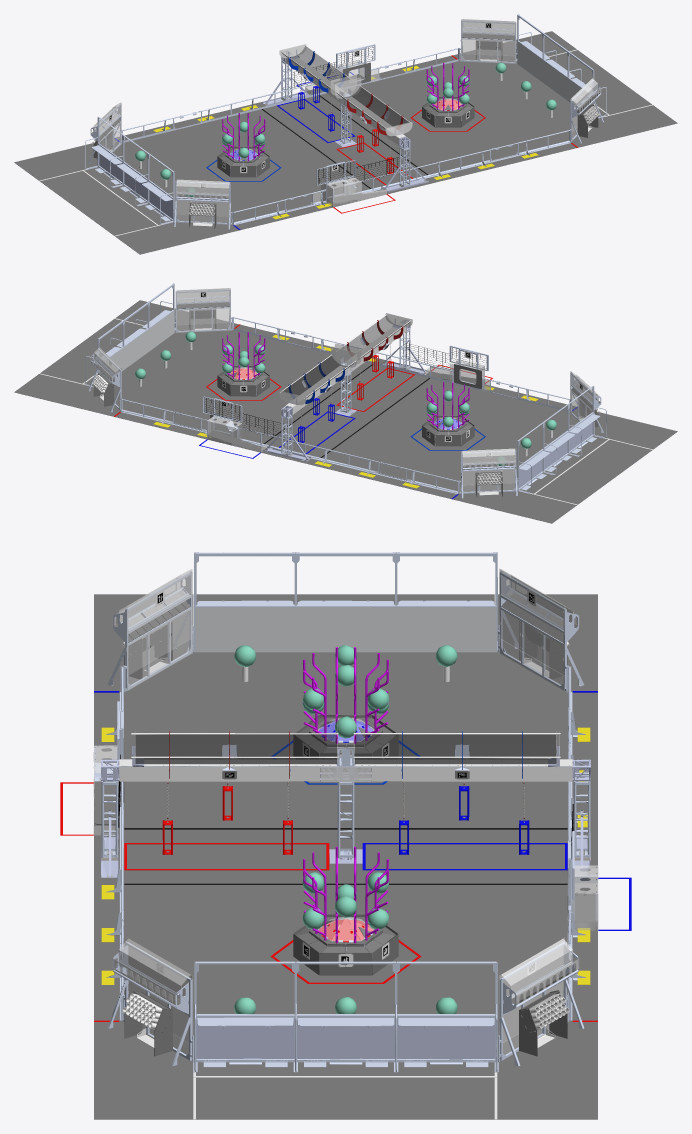
The model's file is field-optimized.glb.
3 renders of one model, top to bottom at view 1: azimuth 30°, elevation 25°; view 2: azimuth 150°, elevation 25°; view 3: azimuth 270°, elevation 25°, orthographic. The views are drawn at different scales.
Visible parts, largest first — view 1: carpet, GE-25001-08, GE-25021, GE-25014, CORAL (GE-25500), GE-25018-01, GE-25228, ALGAE (GE-25501), FE-00004-01, GE-25301, GE-25307, FE-00082 (+5 smaller); view 2: carpet, GE-25001-08, GE-25021, GE-25014, CORAL (GE-25500), GE-25018-01, GE-25228, ALGAE (GE-25501), FE-00004-01, GE-25301, FE-00083_ID2, GE-25307 (+5 smaller); view 3: carpet, GE-25001-08, GE-25021, CORAL (GE-25500), GE-25014, FE-00004-01, GE-25018-01, GE-25228, ALGAE (GE-25501), GE-25301, GE-25307, FE-00082 (+3 smaller).
Boxes of the visible parts, x1=… form: carpet: x1=14, y1=31, x2=677, y2=254; GE-25001-08: x1=85, y1=14, x2=606, y2=229; GE-25021: x1=91, y1=19, x2=601, y2=216; GE-25014: x1=91, y1=29, x2=600, y2=228; CORAL (GE-25500): x1=39, y1=22, x2=652, y2=236; GE-25018-01: x1=97, y1=29, x2=595, y2=218; GE-25228: x1=282, y1=46, x2=408, y2=128; ALGAE (GE-25501): x1=135, y1=62, x2=556, y2=196; FE-00004-01: x1=517, y1=42, x2=592, y2=108; GE-25301: x1=222, y1=63, x2=469, y2=161; GE-25307: x1=333, y1=55, x2=577, y2=213; FE-00082: x1=108, y1=22, x2=577, y2=222; carpet: x1=14, y1=300, x2=677, y2=523; GE-25001-08: x1=85, y1=283, x2=606, y2=498; GE-25021: x1=90, y1=288, x2=600, y2=485; GE-25014: x1=91, y1=298, x2=600, y2=497; CORAL (GE-25500): x1=39, y1=291, x2=652, y2=504; GE-25018-01: x1=96, y1=298, x2=594, y2=487; GE-25228: x1=283, y1=315, x2=409, y2=397; ALGAE (GE-25501): x1=135, y1=331, x2=556, y2=465; FE-00004-01: x1=99, y1=311, x2=174, y2=377; GE-25301: x1=222, y1=332, x2=469, y2=430; FE-00083_ID2: x1=201, y1=292, x2=582, y2=456; GE-25307: x1=114, y1=324, x2=492, y2=416; carpet: x1=94, y1=594, x2=597, y2=1119; GE-25001-08: x1=94, y1=552, x2=597, y2=1072; GE-25021: x1=93, y1=569, x2=598, y2=1042; CORAL (GE-25500): x1=93, y1=589, x2=572, y2=1119; GE-25014: x1=94, y1=590, x2=597, y2=1056; FE-00004-01: x1=195, y1=607, x2=496, y2=652; GE-25018-01: x1=101, y1=588, x2=590, y2=1058; GE-25228: x1=135, y1=735, x2=556, y2=764; ALGAE (GE-25501): x1=234, y1=645, x2=457, y2=1013; GE-25301: x1=303, y1=647, x2=388, y2=943; GE-25307: x1=60, y1=782, x2=597, y2=1021; FE-00082: x1=127, y1=589, x2=564, y2=1054.
Size of what is drawn, in the model's own units: 22.56 by 2.57 by 10.37.
